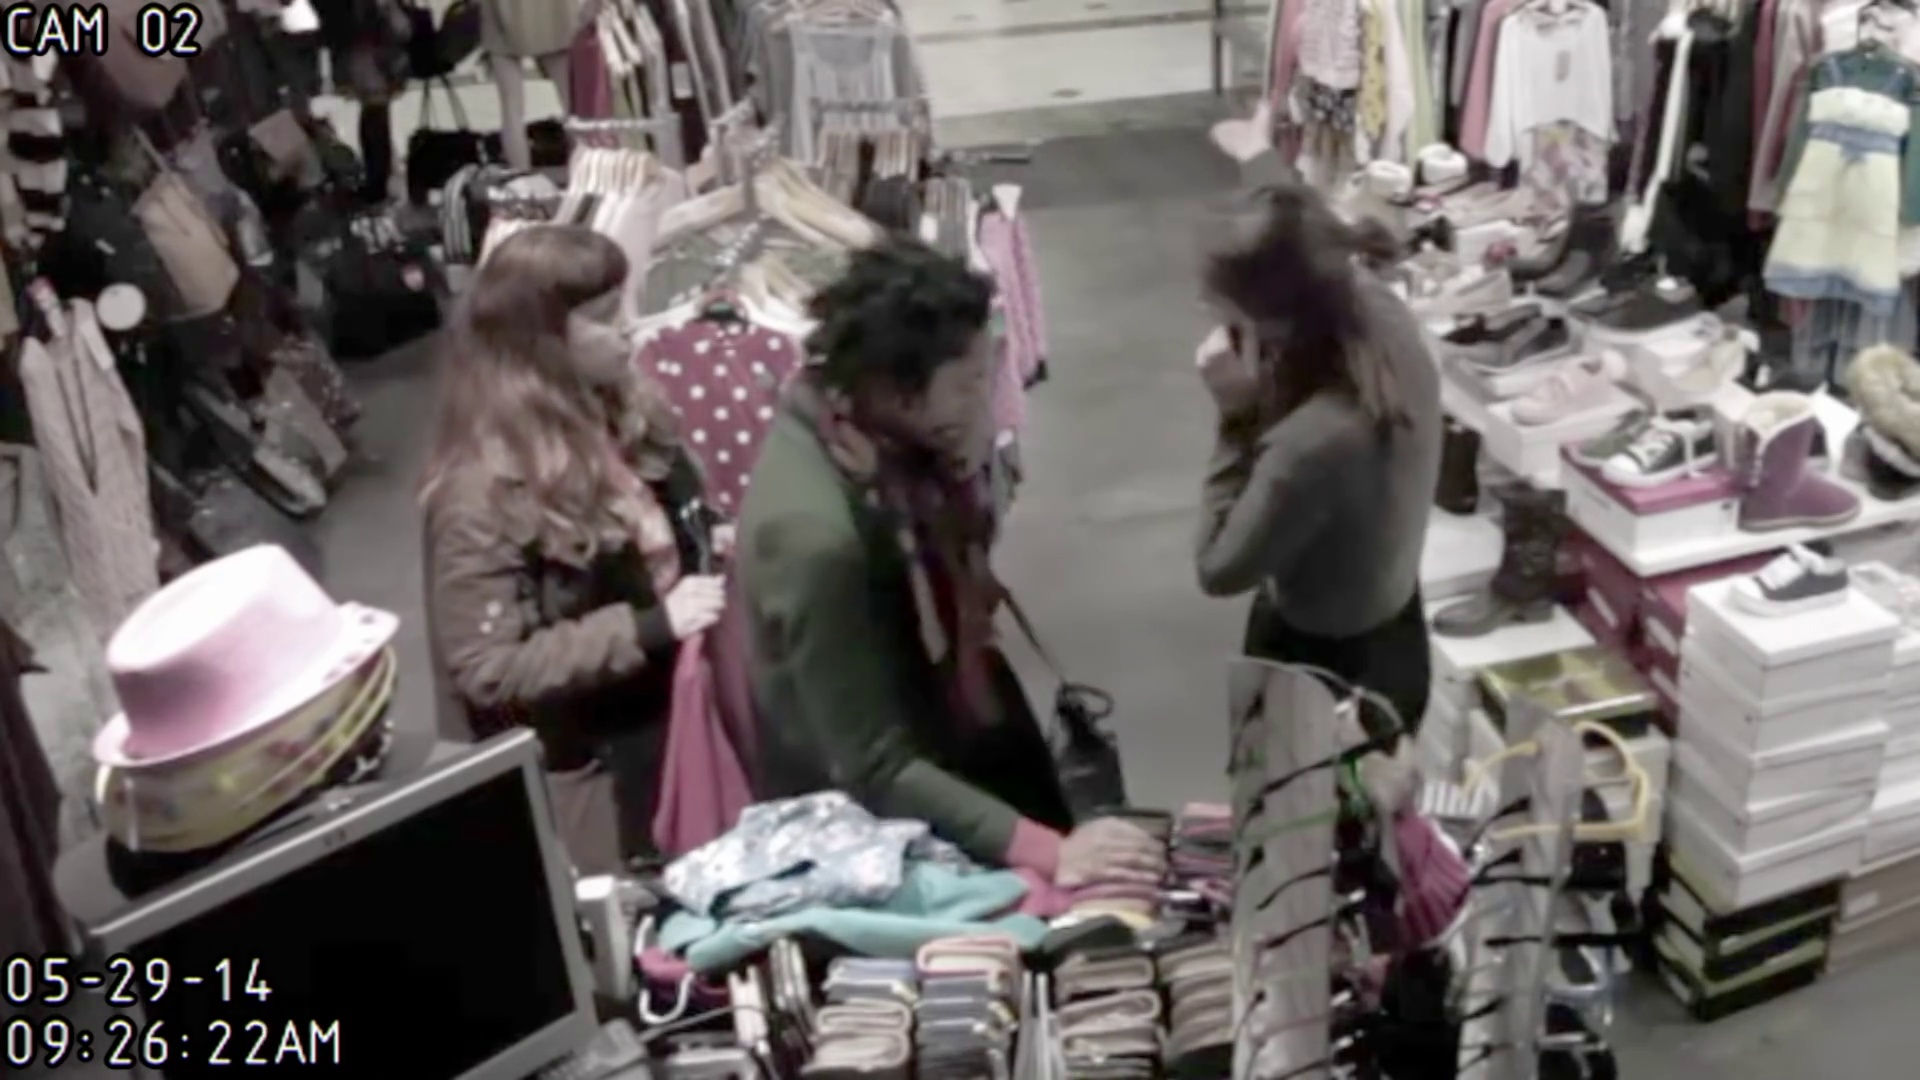face: (902, 320, 996, 446), (547, 289, 632, 386)
